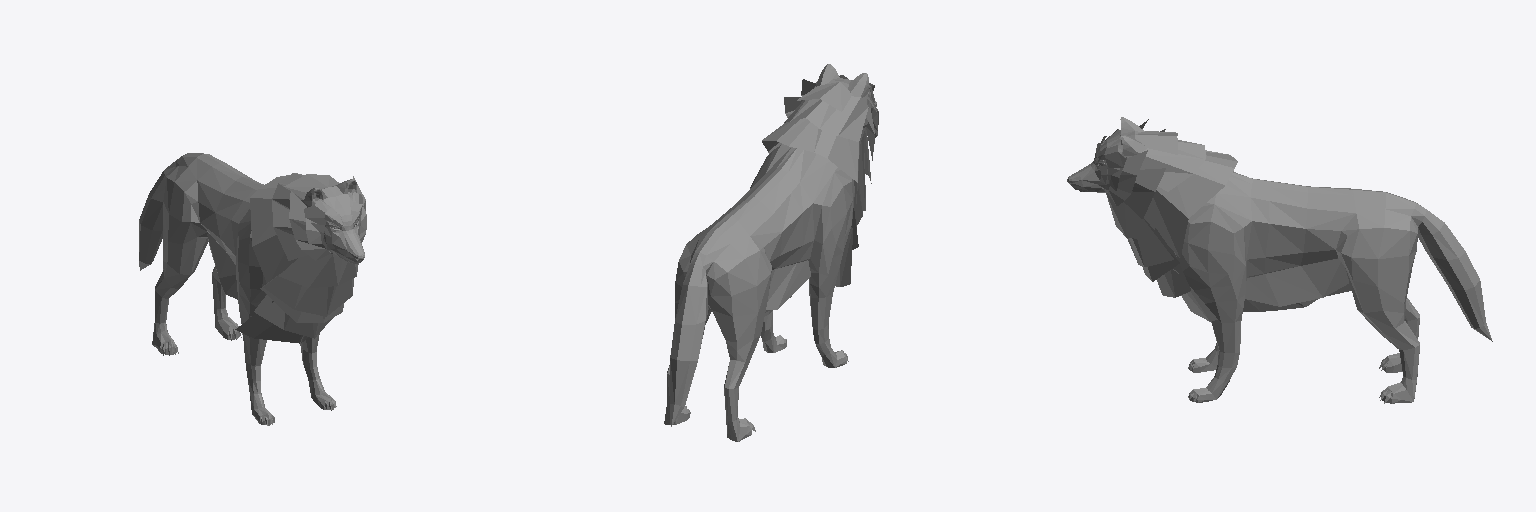
File: wolf.obj
3 renders of one model, left to right at view 1: azimuth 30°, elevation 25°; view 2: azimuth 150°, elevation 25°; view 3: azimuth 270°, elevation 25°, orthographic.
Parts seen in each view (by area): view 1: SubMesh_0; view 2: SubMesh_0; view 3: SubMesh_0.
Boxes of the visible parts, x1=… form: SubMesh_0: x1=139, y1=153, x2=366, y2=425; SubMesh_0: x1=664, y1=64, x2=878, y2=441; SubMesh_0: x1=1067, y1=117, x2=1492, y2=403.
Bounding box in the file's own units: 1.22 × 2.92 × 4.35.